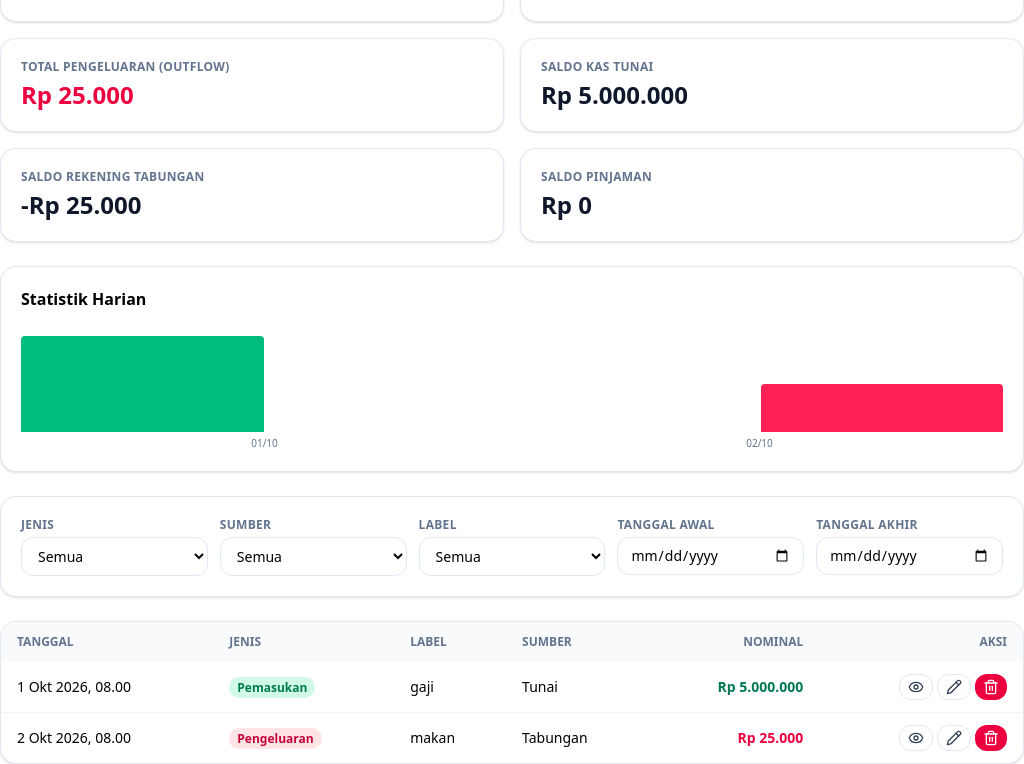
HomePage › mengubah transaksi lewat modal lalu memuat ulang
(page scrolled)
Click the 1st button named "Ubah": (954, 687) 937,674 -> 971,700
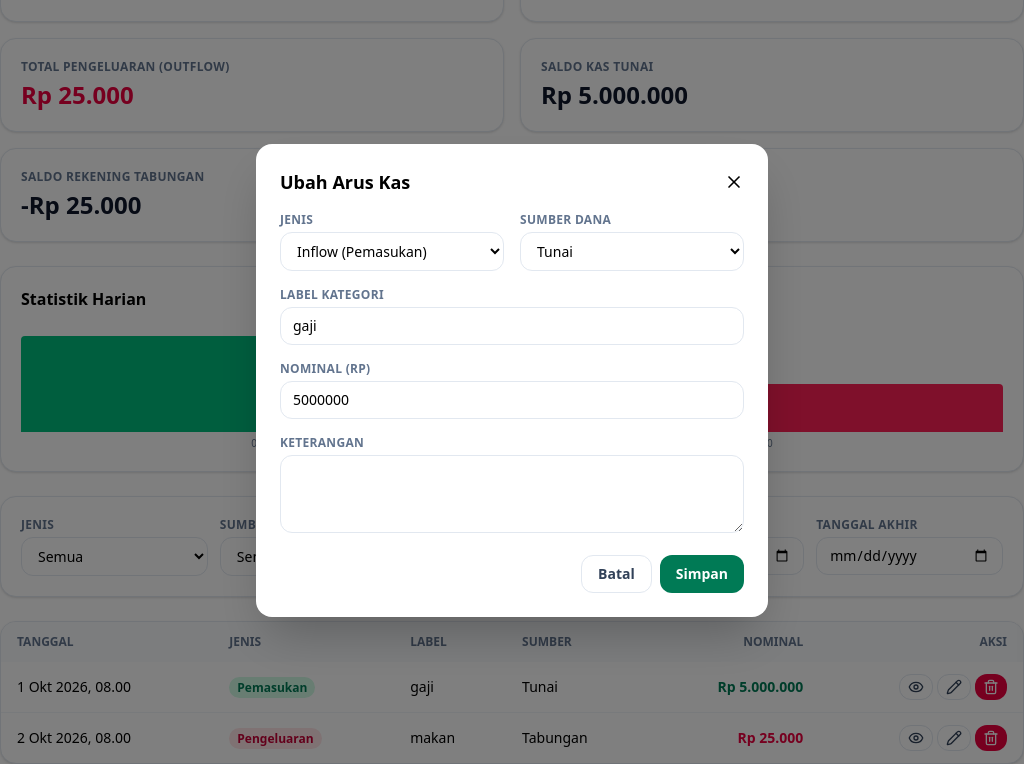
Expected: the text "Ubah Arus Kas" is shown, 280,168 -> 410,196
Expected: the field labelled "Label Kategori" holds "gaji", 280,306 -> 744,344
Submit the form, box 256,144 -> 768,616
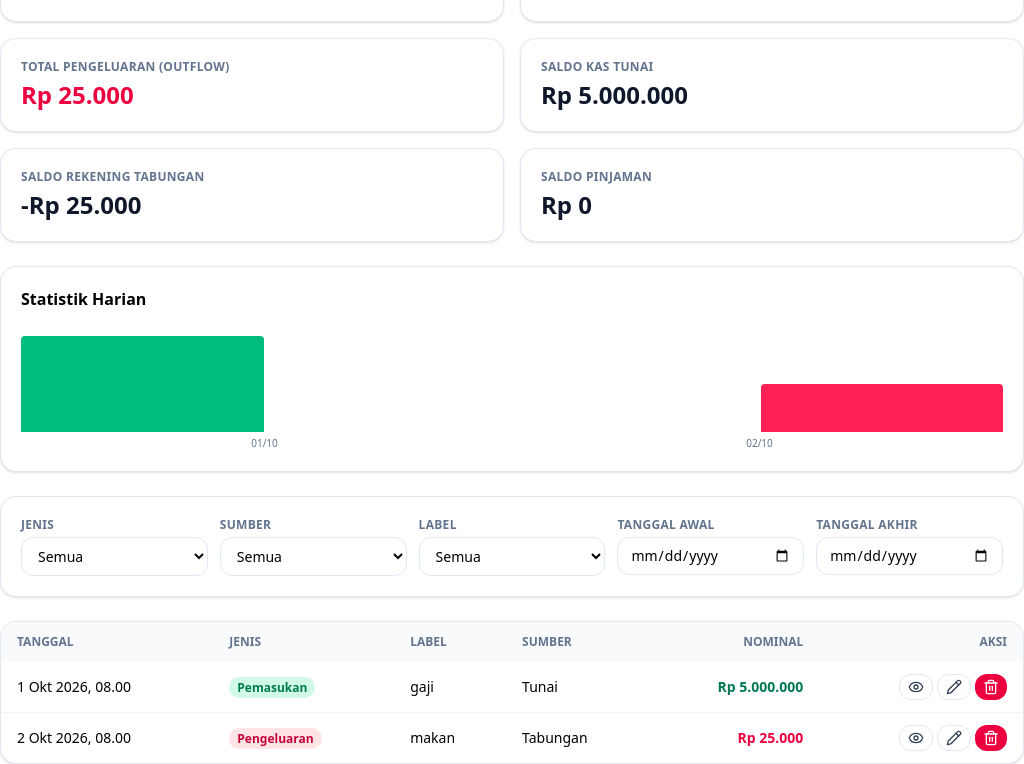
Expected: the text "Ubah Arus Kas" is gone
